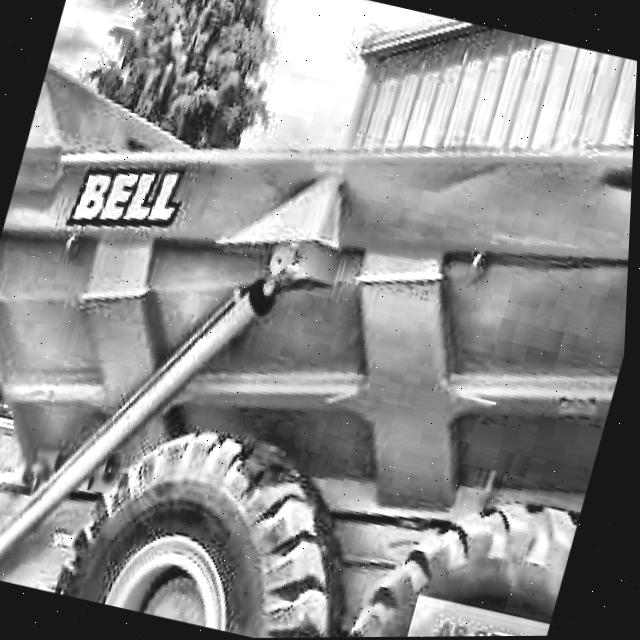dump_truck: (0, 33, 639, 640)
